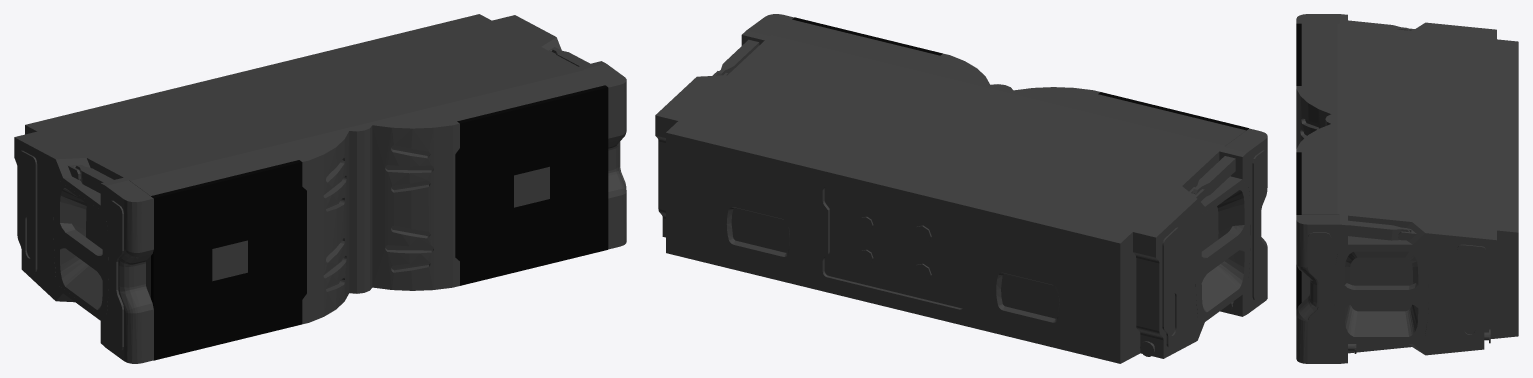
Rendered from speaker_jbl_vtx_v20.glb.
3 views of the same model, side by side, from view 1: azimuth 30°, elevation 25°; view 2: azimuth 150°, elevation 25°; view 3: azimuth 270°, elevation 25° (orthographic). The views are drawn at different scales.
Bounding box in the file's own units: 0.9091 × 0.2798 × 0.4028.
Materials: 2 (1 with a texture image).
